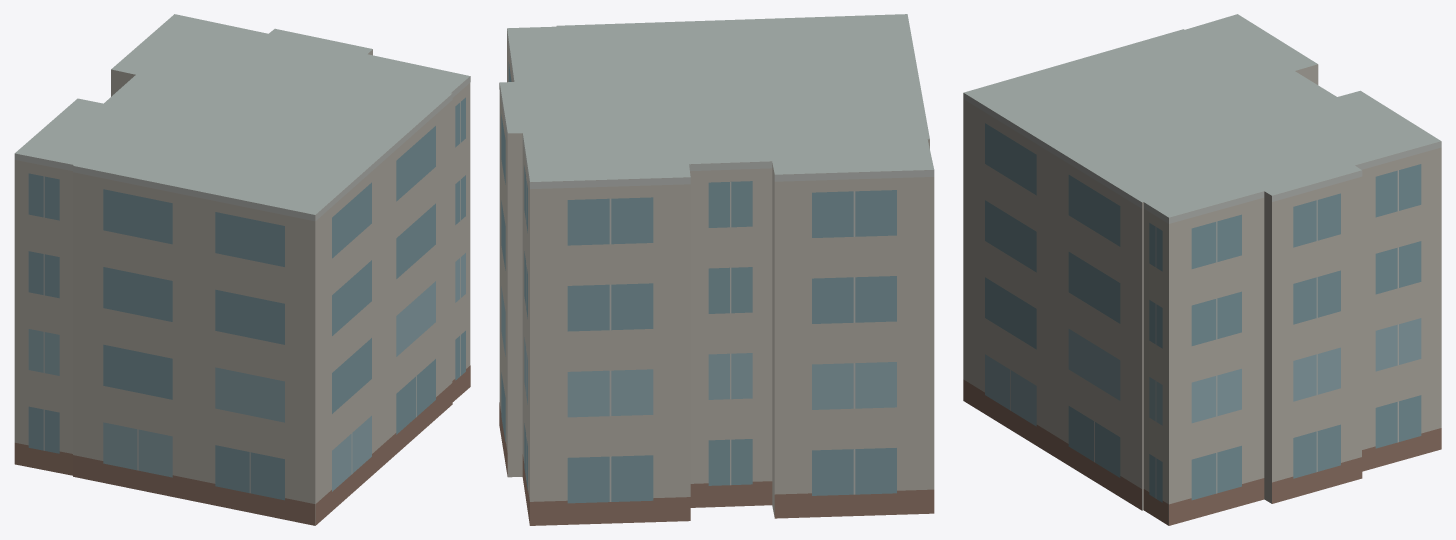
The model's file is survey-upis-33022431.glb.
3 views of the same model, side by side, from view 1: azimuth 30°, elevation 25°; view 2: azimuth 150°, elevation 25°; view 3: azimuth 270°, elevation 25° (orthographic). The views are drawn at different scales.
Visible parts, largest first — view 1: survey-upis-33022431.tmp; view 2: survey-upis-33022431.tmp; view 3: survey-upis-33022431.tmp.
Part boxes in pixels (x1,y1,x2,y2): survey-upis-33022431.tmp: (14,14,470,525); survey-upis-33022431.tmp: (499,14,934,525); survey-upis-33022431.tmp: (963,14,1441,525).
Bounding box in the file's own units: 16.88 × 11.9 × 16.74.
